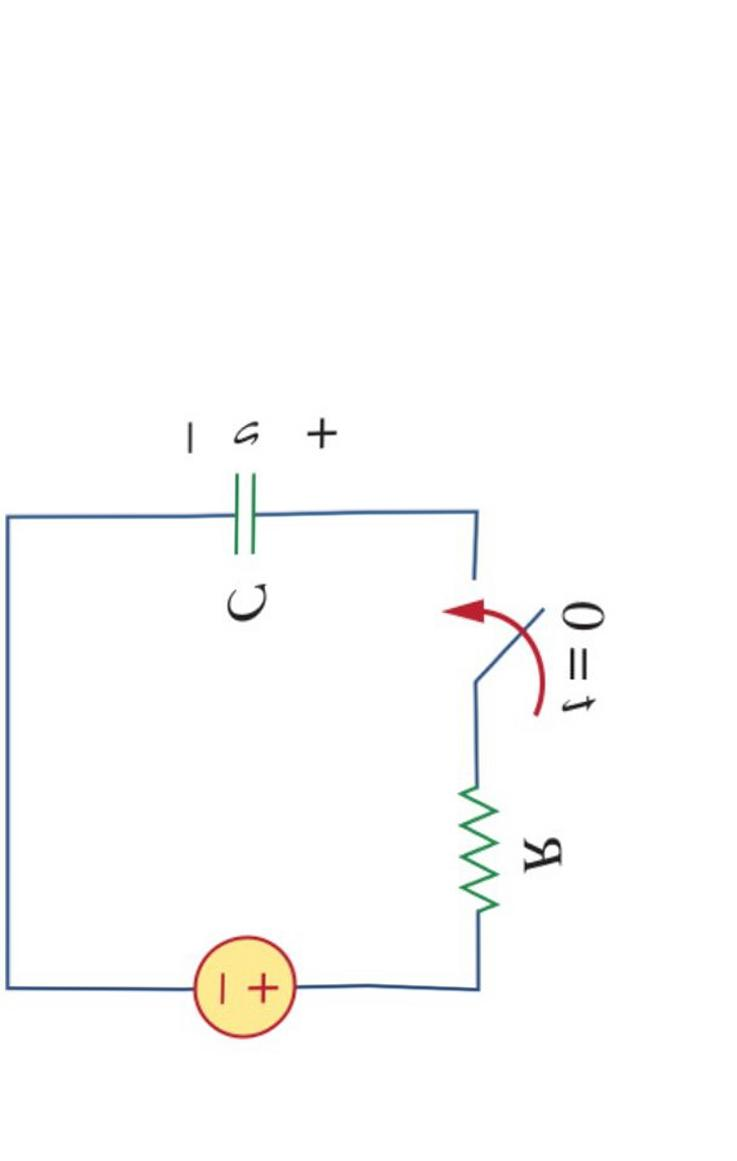Battery: (154, 889, 333, 1081)
